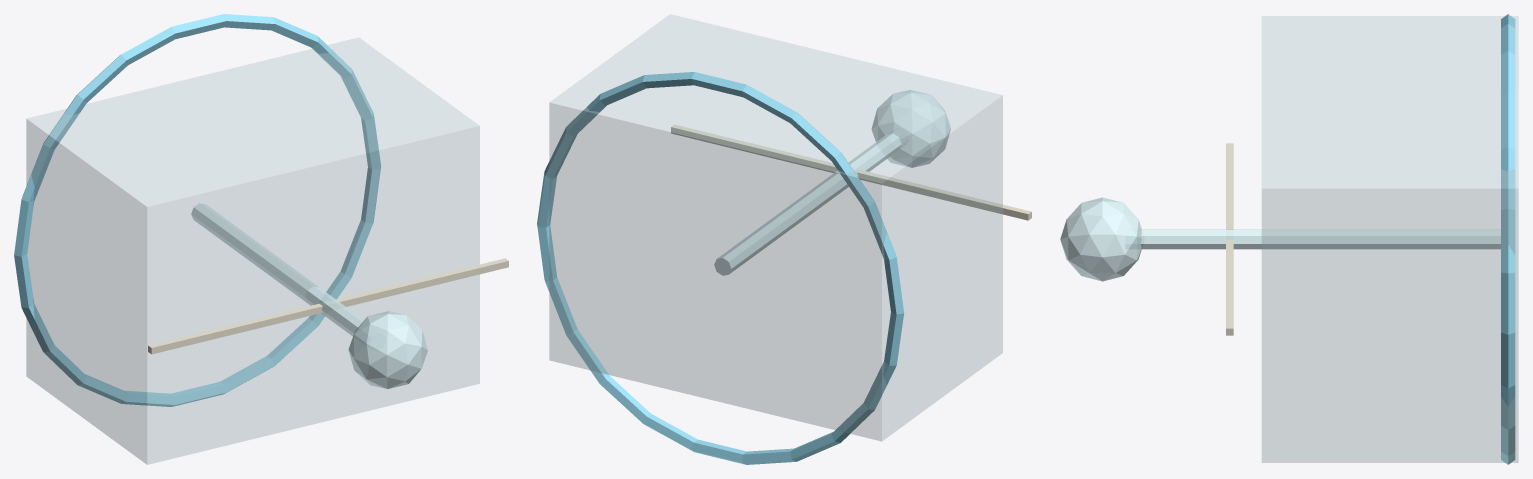
Rendered from 05_dynamic_camera_trigger.glb.
The picture shows the model from 3 angles, left to right: view 1: azimuth 30°, elevation 25°; view 2: azimuth 150°, elevation 25°; view 3: azimuth 270°, elevation 25°; orthographic projection. The views are drawn at different scales.
Parts seen in each view (by area): view 1: camera_trigger_volume, combat_start_ring, focus_target, focus_target_pole, camera_axis; view 2: camera_trigger_volume, combat_start_ring, focus_target, focus_target_pole, camera_axis; view 3: camera_trigger_volume, focus_target_pole, combat_start_ring, focus_target, camera_axis.
Part boxes in pixels (x1,y1,x2,y2): camera_trigger_volume: (26,37,479,464); combat_start_ring: (14,14,380,406); focus_target: (348,311,427,389); focus_target_pole: (191,203,364,336); camera_axis: (148,258,508,354); camera_trigger_volume: (549,14,1002,441); combat_start_ring: (537,72,904,464); focus_target: (871,90,950,167); focus_target_pole: (714,133,901,275); camera_axis: (671,124,1031,220); camera_trigger_volume: (1262,16,1518,462); focus_target_pole: (1141,229,1500,249); combat_start_ring: (1501,14,1515,464); focus_target: (1060,197,1141,281); camera_axis: (1226,143,1233,335).
Size of the model in its own units: 1.49 by 1.47 by 1.51.
